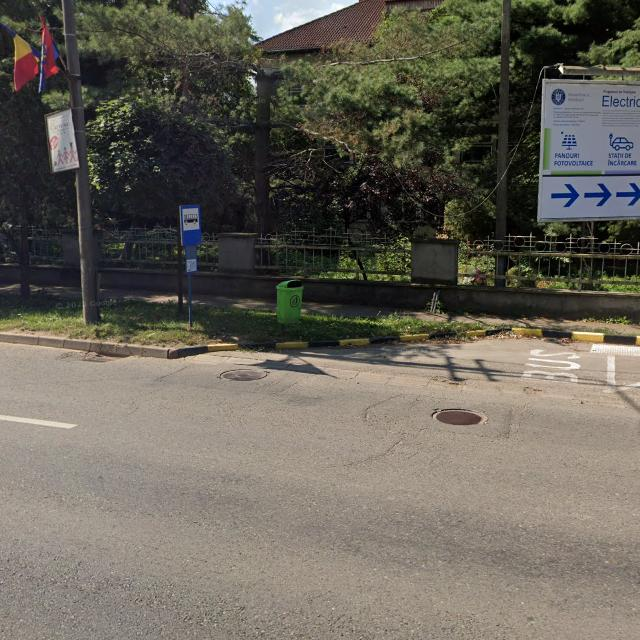info_bus_station: (180, 205, 202, 246)
